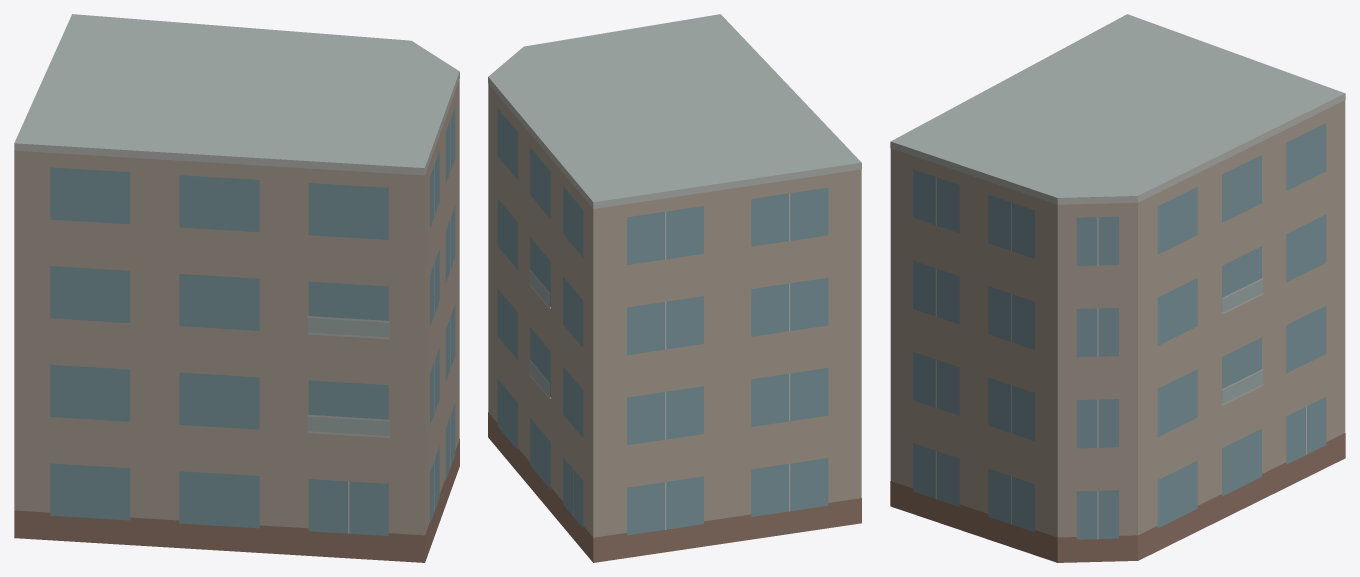
File: survey-upis-32684128.glb
The picture shows the model from 3 angles, left to right: view 1: azimuth 30°, elevation 25°; view 2: azimuth 150°, elevation 25°; view 3: azimuth 270°, elevation 25°; orthographic projection. The views are drawn at different scales.
Parts seen in each view (by area): view 1: survey-upis-32684128.tmp; view 2: survey-upis-32684128.tmp; view 3: survey-upis-32684128.tmp.
Part boxes in pixels (x1,y1,x2,y2): survey-upis-32684128.tmp: (14, 14, 459, 562); survey-upis-32684128.tmp: (488, 14, 861, 562); survey-upis-32684128.tmp: (890, 14, 1345, 562).
Bounding box in the file's own units: 14.17 × 13.1 × 14.81.
